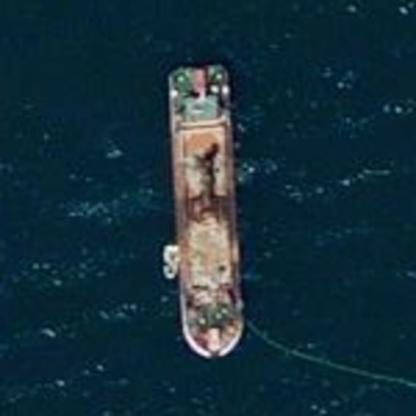ship: (150, 55, 270, 367)
